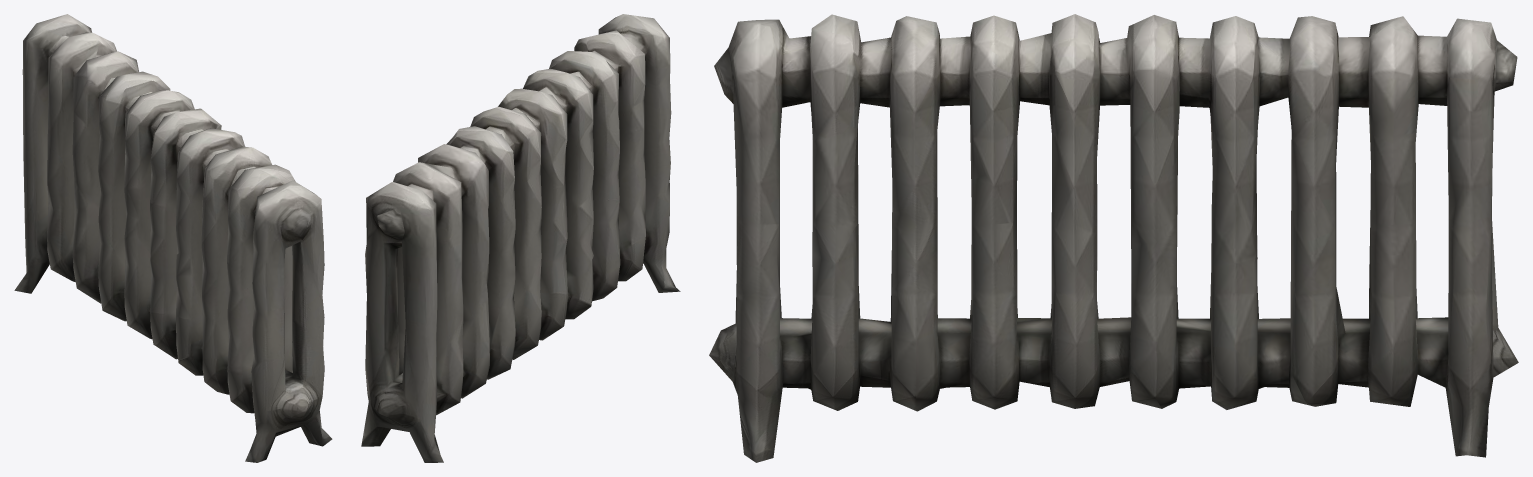
Rendered from radiator_long.glb.
3 views of the same model, side by side, from view 1: azimuth 30°, elevation 25°; view 2: azimuth 150°, elevation 25°; view 3: azimuth 270°, elevation 25° (orthographic). The views are drawn at different scales.
Parts seen in each view (by area): view 1: tripo_node_aaf57b19-b090-4105-8fcf-cf74f3b7744c; view 2: tripo_node_aaf57b19-b090-4105-8fcf-cf74f3b7744c; view 3: tripo_node_aaf57b19-b090-4105-8fcf-cf74f3b7744c.
Boxes of the visible parts, box(x1,y1,x2,y2) form: tripo_node_aaf57b19-b090-4105-8fcf-cf74f3b7744c: box(14, 14, 332, 462); tripo_node_aaf57b19-b090-4105-8fcf-cf74f3b7744c: box(361, 14, 680, 462); tripo_node_aaf57b19-b090-4105-8fcf-cf74f3b7744c: box(709, 14, 1518, 462).
Size of the model in its own units: 0.1942 by 0.5617 by 1.
Materials: 1 (1 with a texture image).
